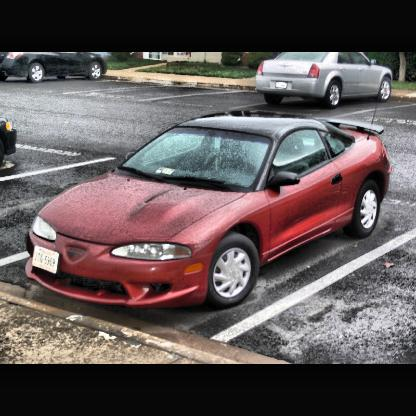Eagle Talon Hatchback 1998: (28, 103, 393, 312)
